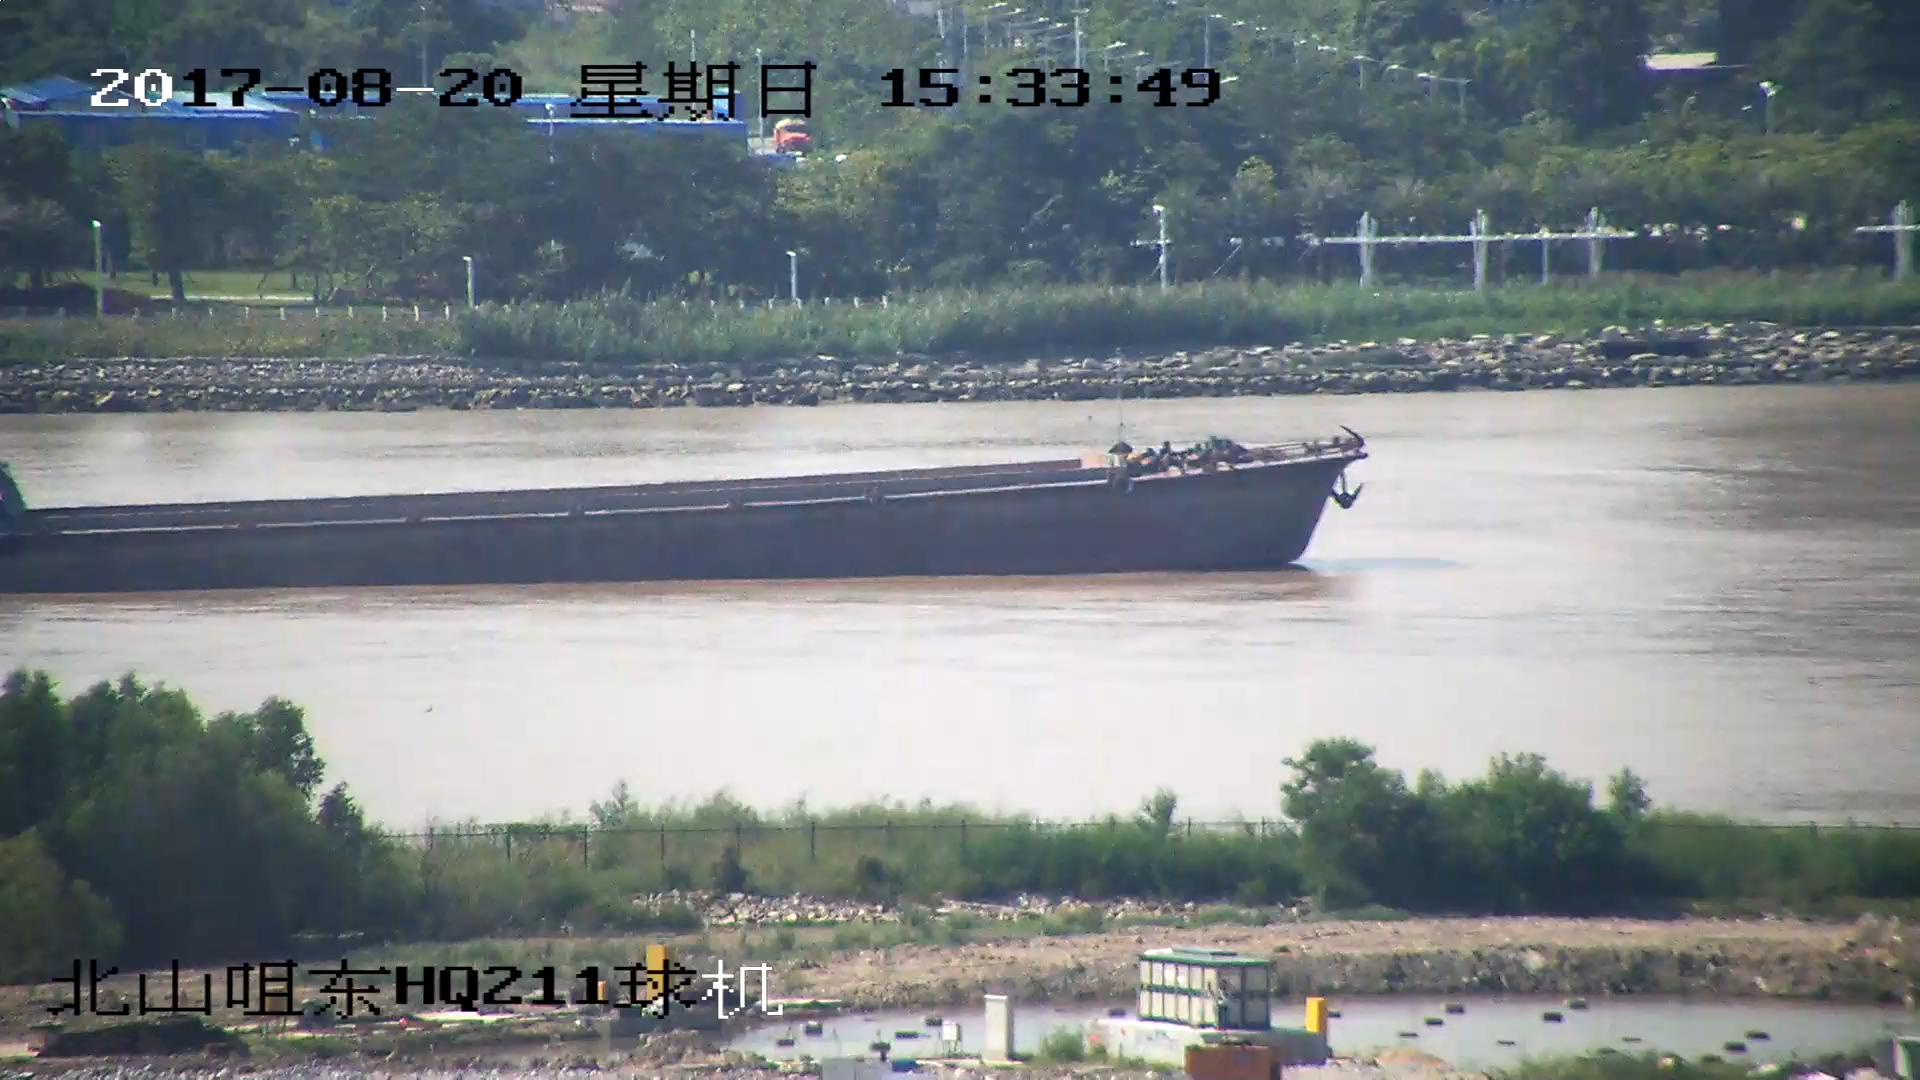bulk cargo carrier: (1, 428, 1370, 598)
